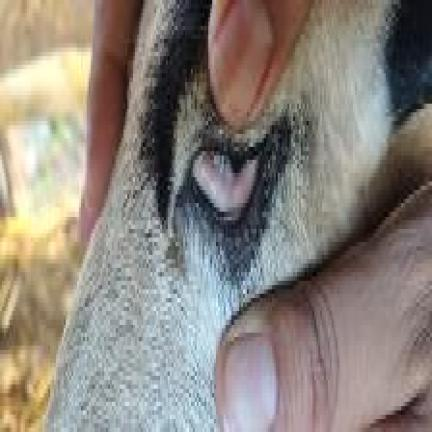goat-eye-anemia-22222222: (176, 121, 289, 272)
